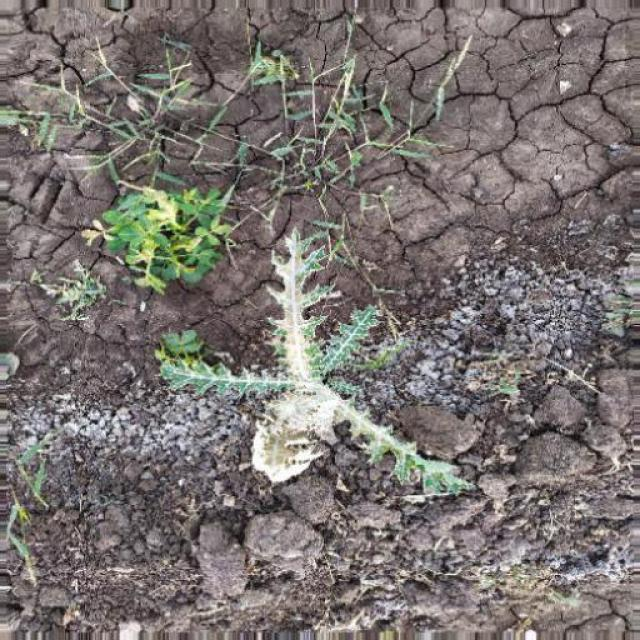weed: (156, 225, 476, 527), (72, 162, 236, 280)
